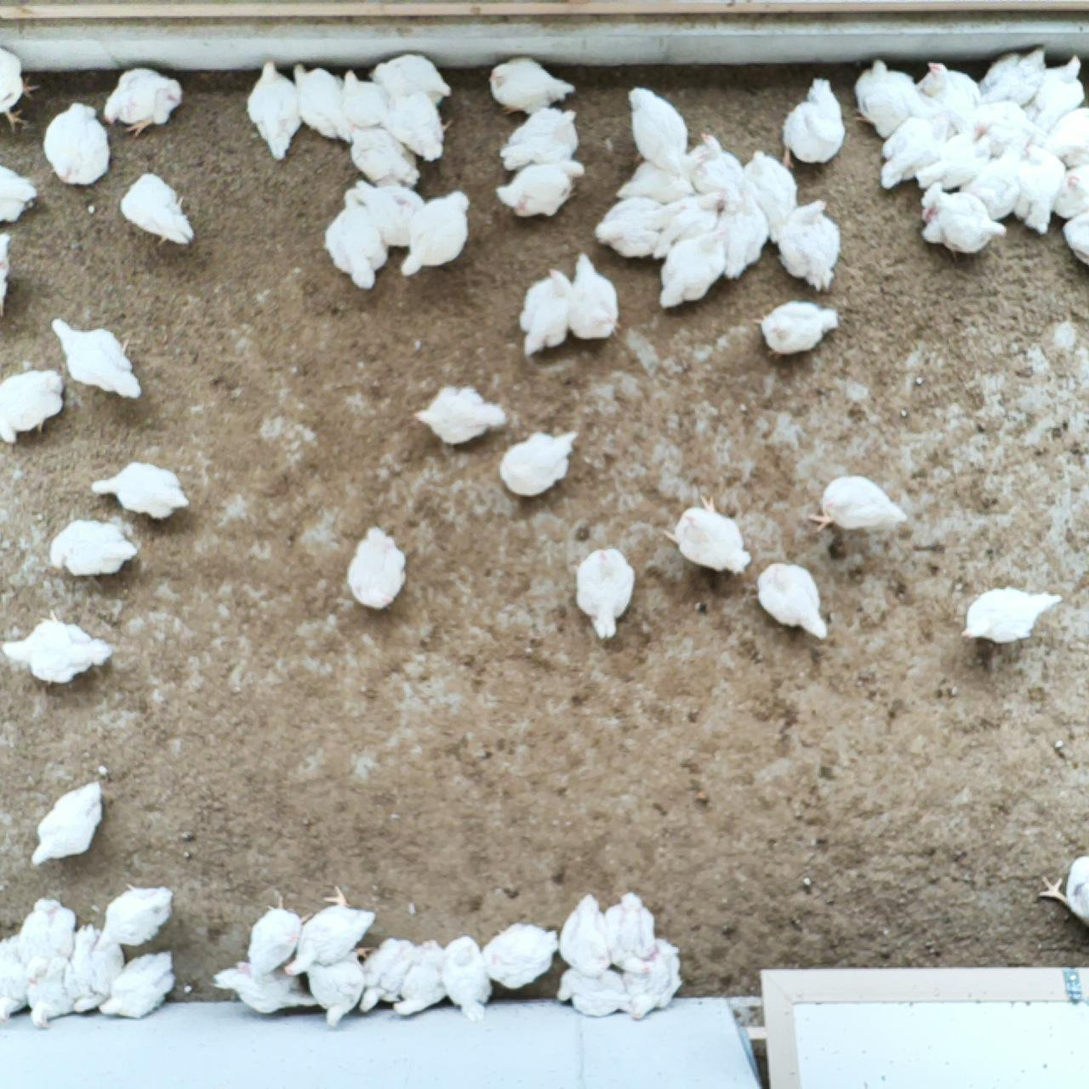chicken: (282, 881, 377, 978), (0, 607, 109, 690), (49, 315, 146, 402), (658, 491, 753, 575), (917, 181, 1009, 267), (26, 779, 109, 872), (323, 188, 393, 294), (751, 560, 834, 648), (411, 378, 509, 452), (40, 101, 117, 195), (398, 189, 477, 280), (303, 936, 377, 1031), (960, 582, 1065, 648), (806, 469, 909, 536), (776, 195, 845, 295), (571, 546, 644, 640), (778, 75, 848, 173), (91, 456, 192, 523), (119, 170, 199, 253), (93, 879, 176, 958), (235, 894, 313, 978), (875, 110, 952, 195), (61, 922, 129, 1018), (642, 185, 730, 259), (659, 223, 731, 312), (493, 155, 589, 221), (479, 916, 563, 991), (99, 62, 184, 136), (496, 426, 582, 499), (97, 946, 178, 1023), (751, 298, 841, 367), (498, 106, 584, 178), (616, 936, 687, 1023), (352, 173, 430, 252), (342, 118, 423, 194), (245, 57, 302, 164), (16, 894, 81, 987), (208, 963, 322, 1016), (626, 82, 688, 176), (49, 516, 140, 580), (487, 52, 577, 116), (602, 889, 664, 981), (1018, 54, 1089, 133), (293, 58, 356, 147), (568, 251, 627, 346), (345, 523, 410, 609), (385, 83, 452, 166), (438, 932, 496, 1027), (515, 263, 572, 358), (558, 889, 616, 980), (914, 57, 981, 135), (1013, 141, 1067, 237), (852, 56, 916, 137), (958, 145, 1025, 222), (0, 367, 67, 444), (368, 48, 456, 106), (913, 127, 993, 190), (391, 935, 449, 1021), (353, 936, 416, 1014), (722, 186, 772, 281), (593, 194, 662, 262), (1033, 848, 1089, 930), (981, 43, 1051, 108), (744, 148, 800, 228), (550, 962, 630, 1016), (0, 40, 44, 135), (685, 127, 744, 197), (611, 159, 698, 205), (24, 963, 77, 1036), (335, 66, 387, 131), (974, 97, 1040, 148), (0, 930, 32, 1028), (1042, 105, 1089, 168), (0, 159, 42, 227), (1052, 163, 1089, 222), (1063, 207, 1089, 259)
